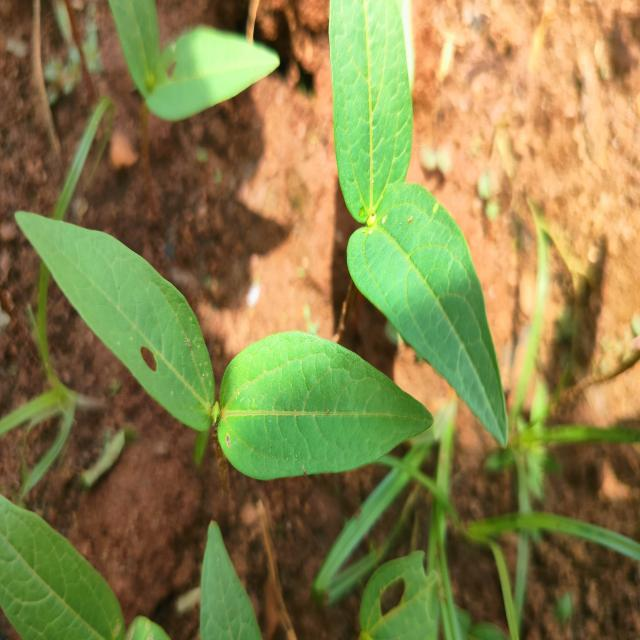Black gram_healthy: (16, 211, 216, 434), (346, 180, 506, 447), (220, 332, 433, 479), (328, 0, 413, 217), (1, 487, 121, 640), (150, 27, 281, 128)
